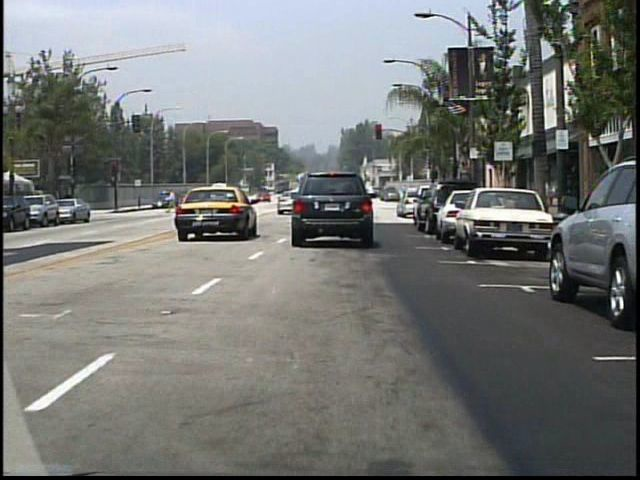person: (356, 181, 373, 218), (167, 188, 179, 214)
